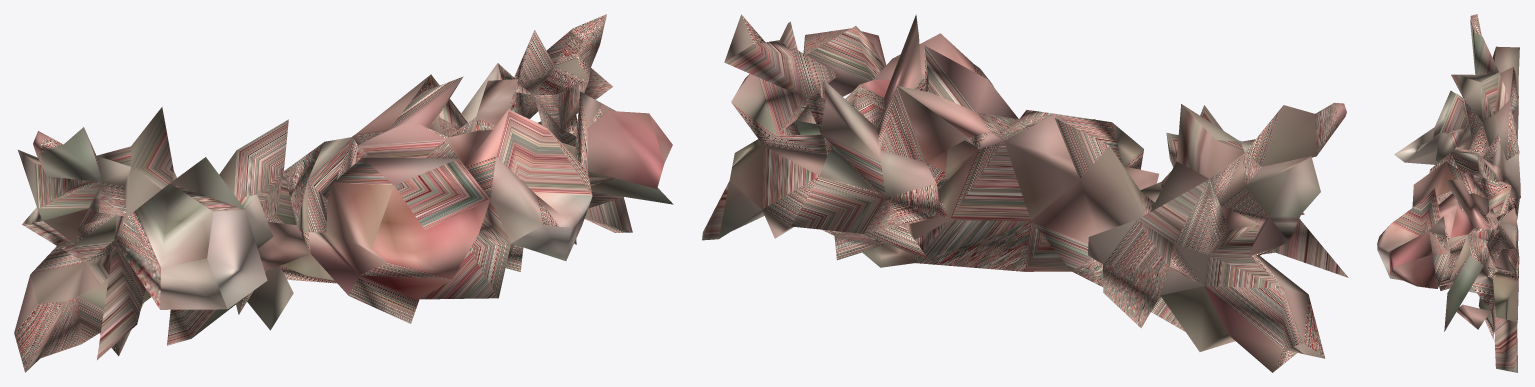
3 views of the same model, side by side, from view 1: azimuth 30°, elevation 25°; view 2: azimuth 150°, elevation 25°; view 3: azimuth 270°, elevation 25° (orthographic). The views are drawn at different scales.
Visible parts, largest first — view 1: Rose-Spray-10-23; view 2: Rose-Spray-10-23; view 3: Rose-Spray-10-23.
Part boxes in pixels (x1,y1,x2,y2): Rose-Spray-10-23: (14,14,673,372); Rose-Spray-10-23: (702,14,1348,372); Rose-Spray-10-23: (1377,14,1520,372).
Bounding box in the file's own units: 0.3 × 0.125 × 0.0944.
Materials: 1 (1 with a texture image).
